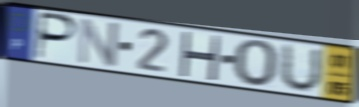2: (135, 28, 171, 76)
H: (177, 30, 223, 83)
N: (76, 15, 122, 69)
O: (232, 38, 281, 90)
P: (33, 10, 79, 62)
U: (277, 41, 323, 94)
